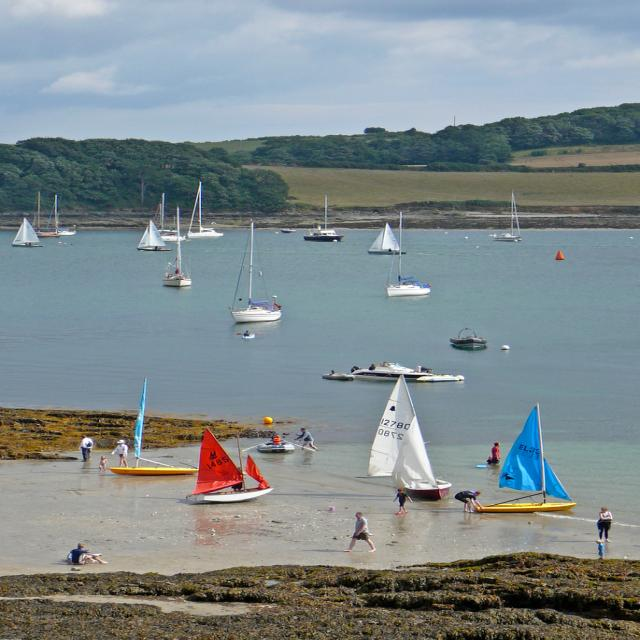Boat: (473, 402, 578, 511), (366, 374, 452, 502), (110, 376, 202, 475), (182, 433, 285, 512), (138, 181, 223, 251), (228, 223, 282, 324), (385, 212, 431, 298), (164, 205, 196, 286), (179, 182, 224, 238), (301, 195, 346, 241), (493, 192, 526, 242), (357, 360, 437, 380), (154, 197, 184, 244), (367, 222, 408, 254), (49, 195, 80, 237), (34, 191, 58, 239), (12, 217, 42, 249), (138, 221, 171, 250), (449, 329, 486, 351), (256, 433, 298, 452), (412, 373, 467, 385), (323, 371, 357, 381), (423, 376, 462, 382), (241, 334, 259, 340), (280, 228, 296, 232)
